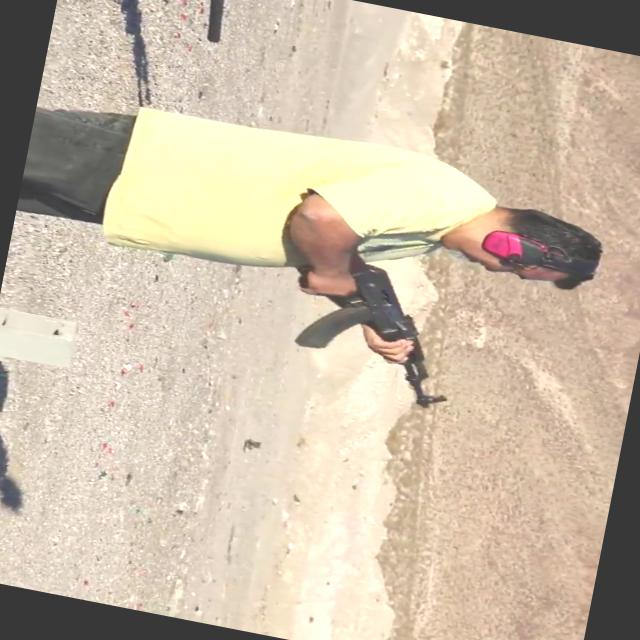long weapon: (238, 220, 490, 432)
